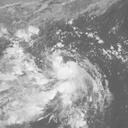cyclone: (47, 58, 92, 106)
